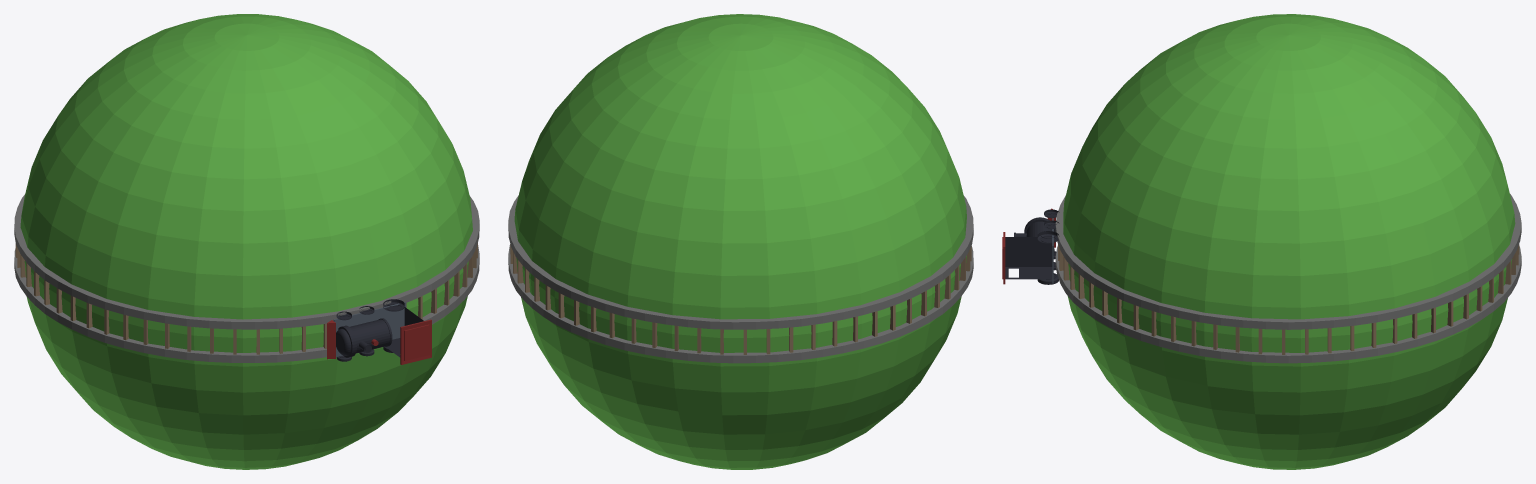
Rendered from train-planet.gltf.
3 renders of one model, left to right at view 1: azimuth 30°, elevation 25°; view 2: azimuth 150°, elevation 25°; view 3: azimuth 270°, elevation 25°, orthographic.
Parts seen in each view (by area): view 1: World, Rail, Train, RailTies; view 2: World, Rail, RailTies; view 3: World, Rail, RailTies, Train.
Part boxes in pixels (box(x1,y1,x2,y2)): World: box(20, 14, 472, 469); Rail: box(14, 194, 479, 362); Train: box(327, 299, 431, 364); RailTies: box(15, 243, 477, 354); World: box(514, 14, 966, 469); Rail: box(508, 195, 973, 363); RailTies: box(510, 244, 971, 354); World: box(1063, 14, 1515, 469); Rail: box(1055, 194, 1521, 363); RailTies: box(1058, 244, 1519, 354); Train: box(1002, 208, 1059, 284).
Bounding box in the file's own units: 29.33 × 28.7 × 32.69.
